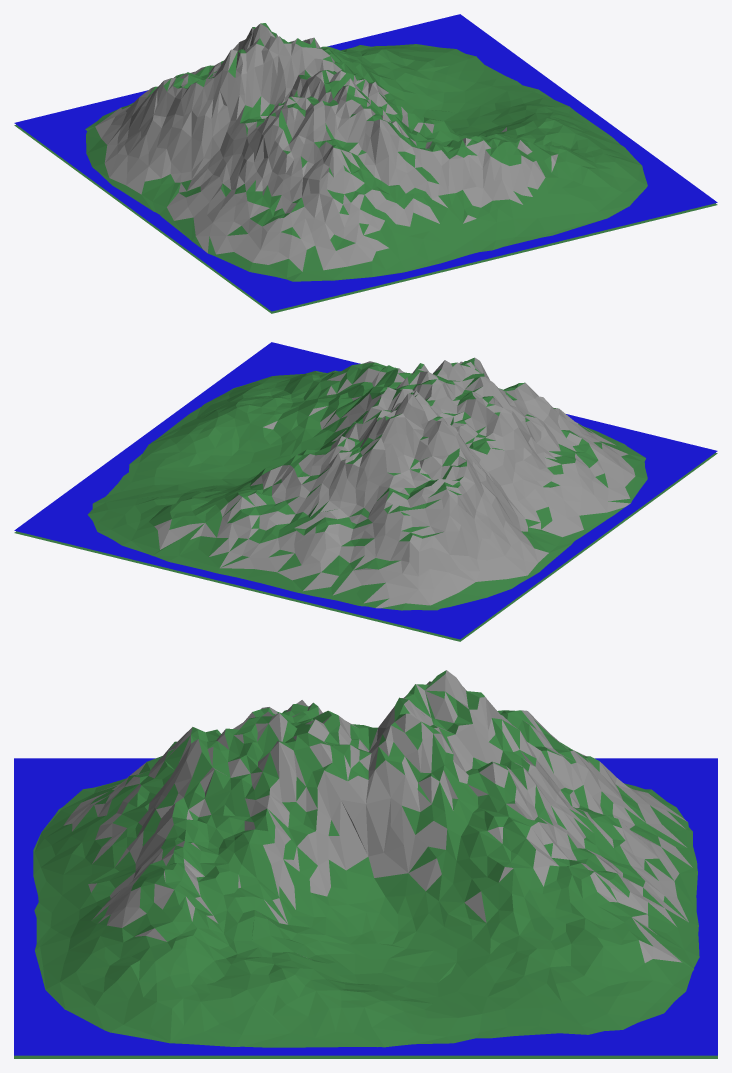
The picture shows the model from 3 angles, top to bottom: view 1: azimuth 30°, elevation 25°; view 2: azimuth 150°, elevation 25°; view 3: azimuth 270°, elevation 25°; orthographic projection. The views are drawn at different scales.
Parts seen in each view (by area): view 1: Landscape, Landscape_plane; view 2: Landscape, Landscape_plane; view 3: Landscape, Landscape_plane.
Part boxes in pixels (x1,y1,x2,y2): Landscape: (14, 23, 717, 313); Landscape_plane: (14, 14, 717, 311); Landscape: (14, 357, 717, 641); Landscape_plane: (14, 342, 717, 639); Landscape: (14, 670, 717, 1058); Landscape_plane: (14, 758, 717, 1055).
Bounding box in the file's own units: 20 × 5.94 × 20.
